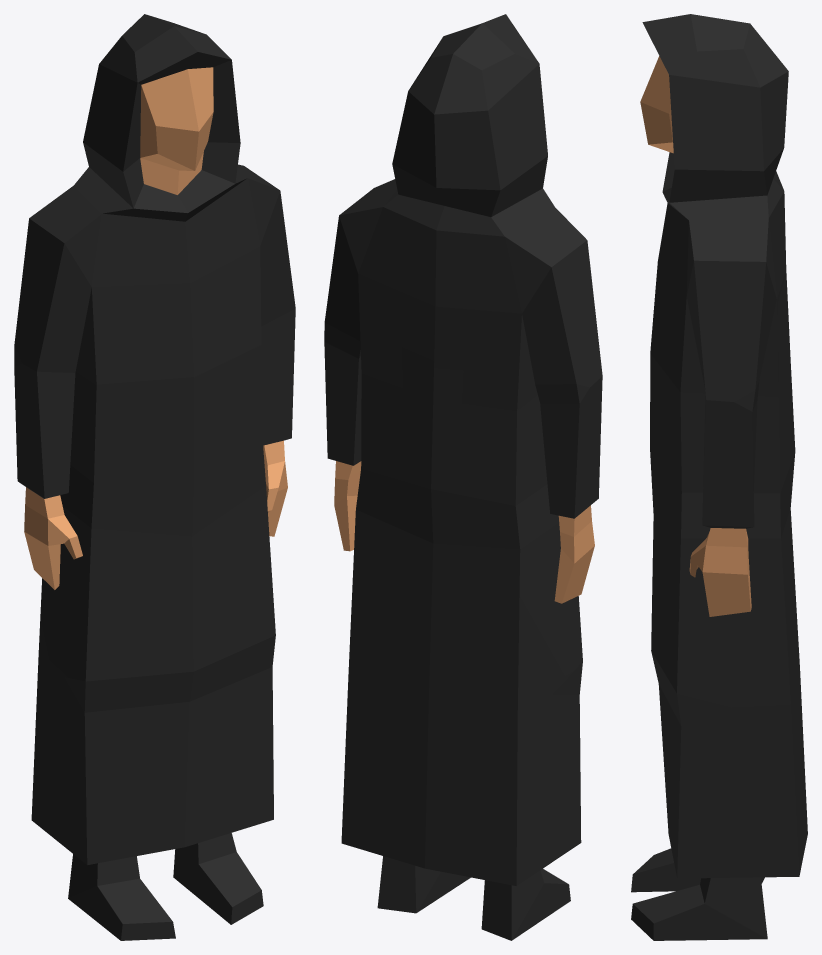
The model's file is people_man-cult.fbx.
3 renders of one model, left to right at view 1: azimuth 30°, elevation 25°; view 2: azimuth 150°, elevation 25°; view 3: azimuth 270°, elevation 25°, orthographic. The views are drawn at different scales.
Visible parts, largest first — view 1: people_man_cult; view 2: people_man_cult; view 3: people_man_cult.
Boxes of the visible parts, x1,y1,x2,y2 form: people_man_cult: (14, 14, 295, 940); people_man_cult: (324, 14, 602, 940); people_man_cult: (631, 14, 807, 940).
Bounding box in the file's own units: 61.79 × 200 × 35.94.
